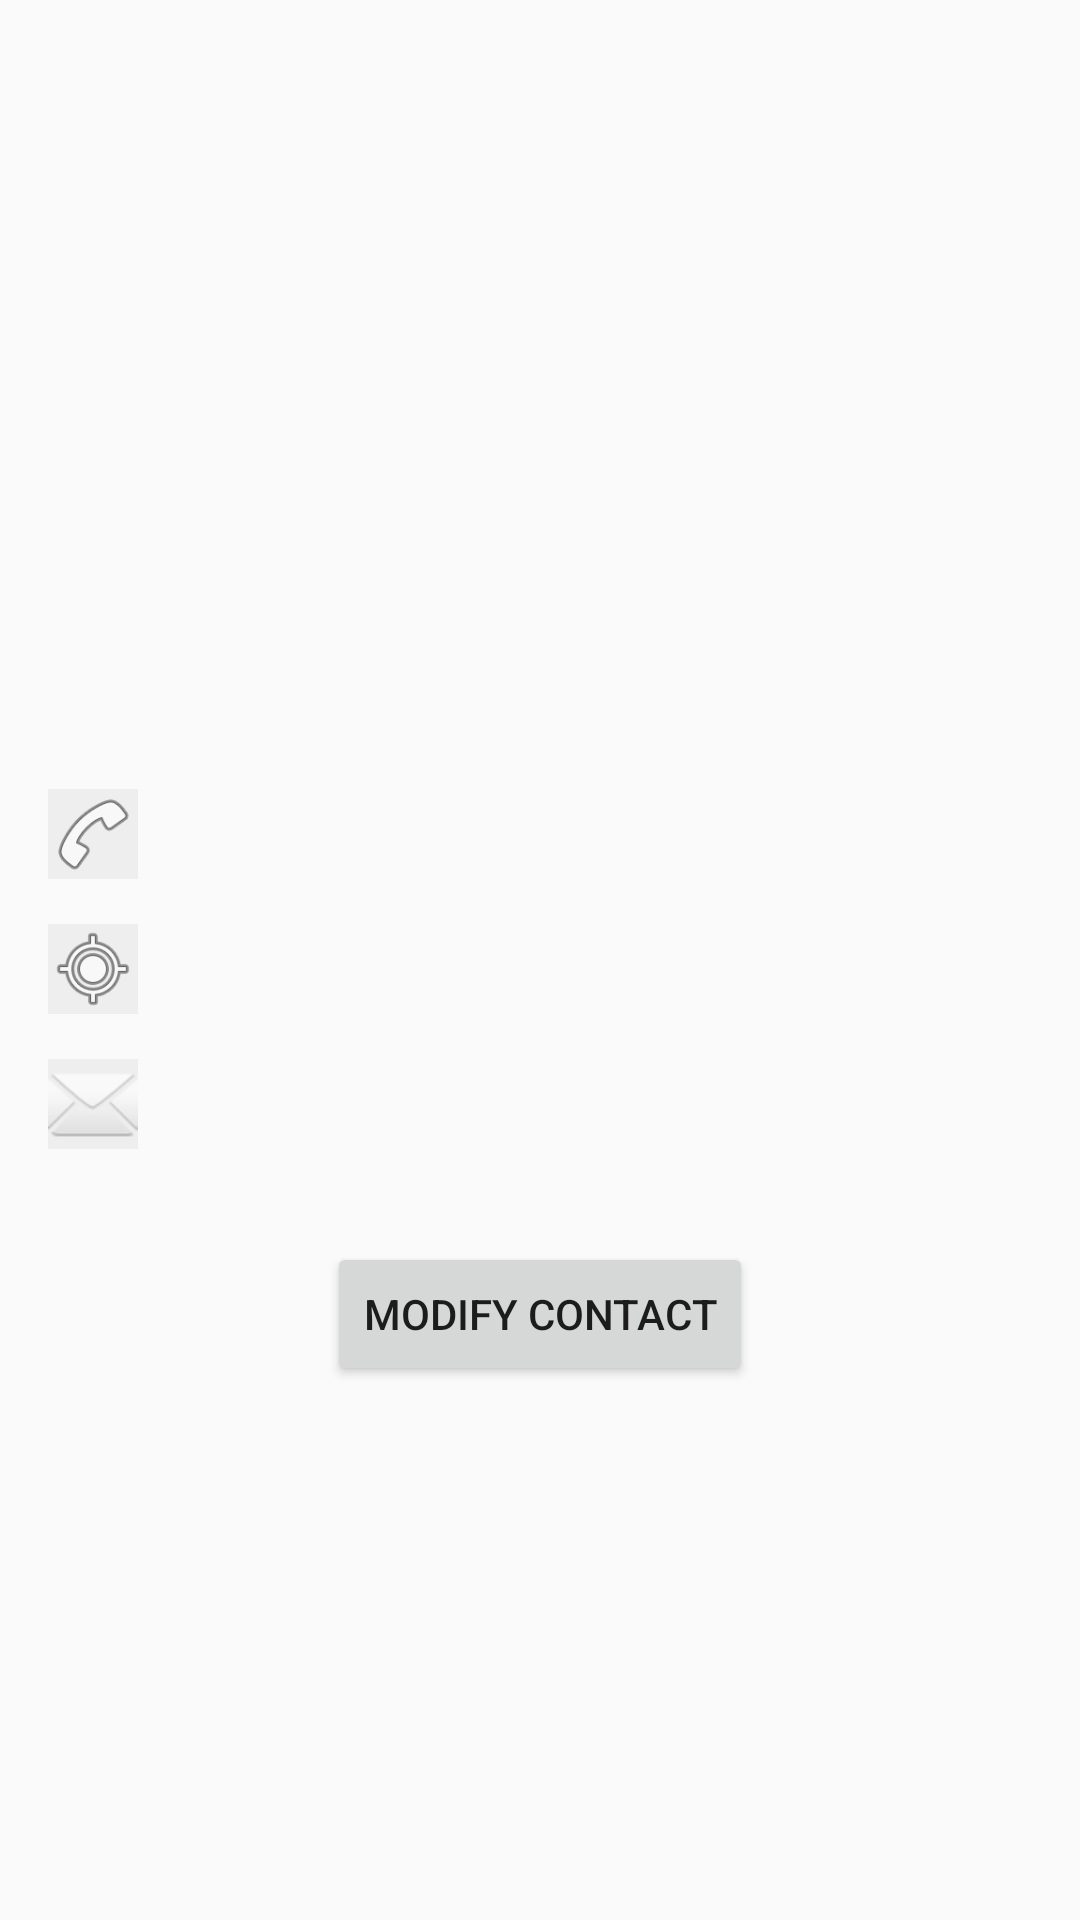

Locate icon controls on the screen. Image size 1080w x 1920h, boxes as box=[x1, y1, x2, y2].
call: box=[48, 789, 138, 879]
email: box=[48, 1059, 138, 1149]
mylocation: box=[48, 924, 138, 1014]
